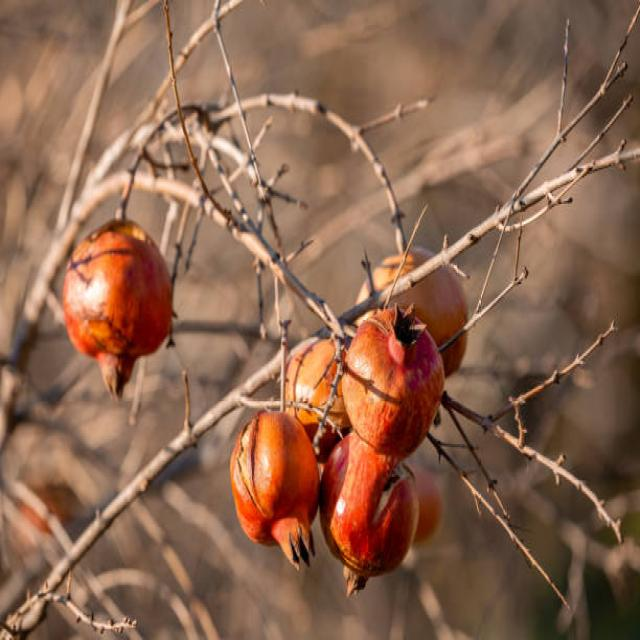overripe: (59, 215, 177, 398), (324, 425, 420, 593), (343, 303, 445, 460), (229, 406, 323, 574)
